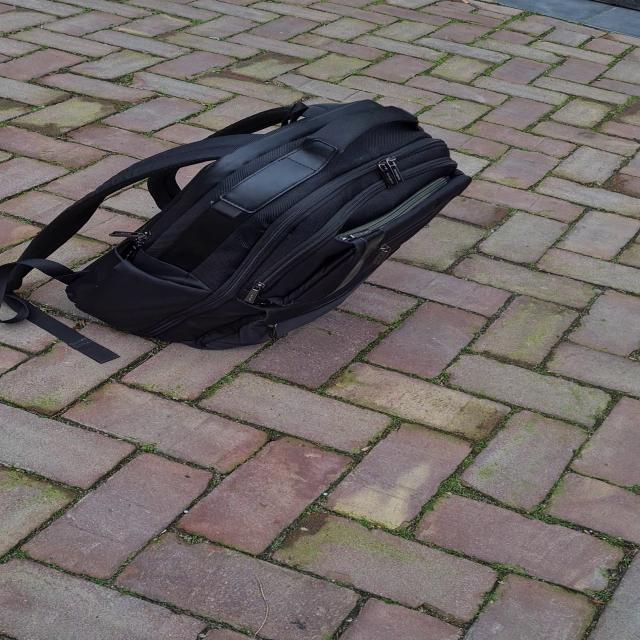backpack: (44, 91, 488, 366)
